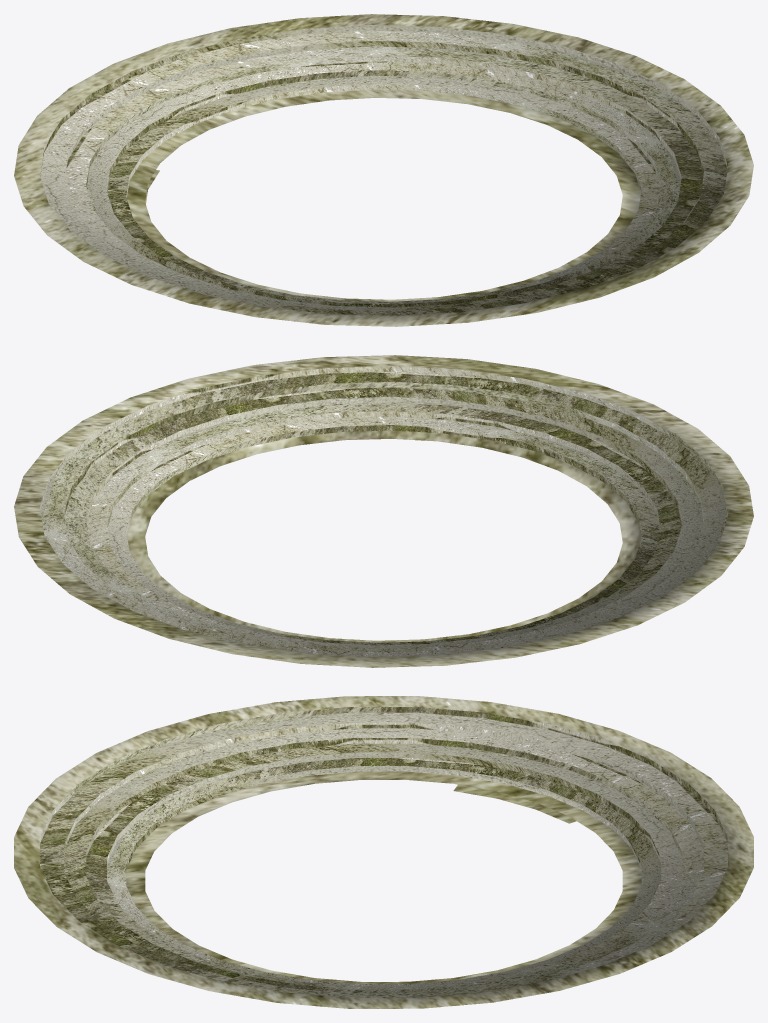
File: arena_moss3.fbx
3 renders of one model, top to bottom at view 1: azimuth 30°, elevation 25°; view 2: azimuth 150°, elevation 25°; view 3: azimuth 270°, elevation 25°, orthographic.
Parts seen in each view (by area): view 1: Circle.009; view 2: Circle.009; view 3: Circle.009.
Boxes of the visible parts, bbox=[...] form: Circle.009: bbox=[14, 14, 753, 326]; Circle.009: bbox=[14, 355, 753, 667]; Circle.009: bbox=[14, 696, 753, 1008].
Bounding box in the file's own units: 2977 × 159 × 2977.
